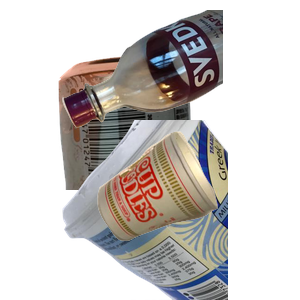glass: (60, 10, 300, 130)
metal: (56, 52, 242, 232)
plastic: (60, 120, 300, 300)
trash: (95, 129, 300, 300)
